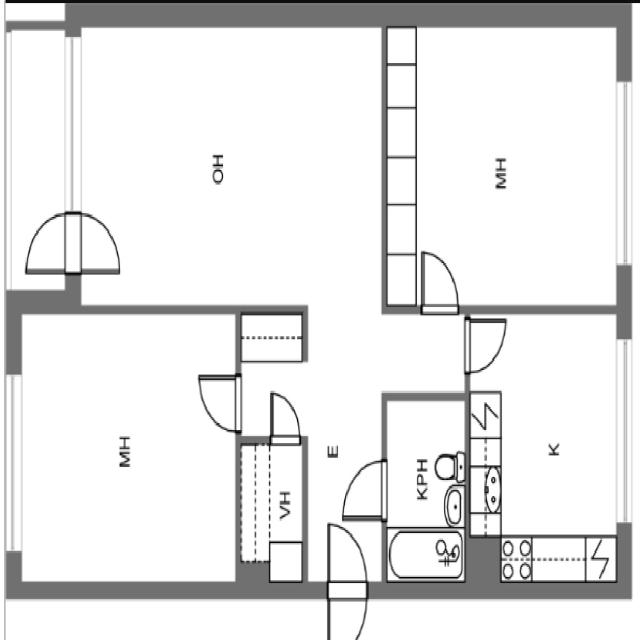door: (320, 516, 372, 616), (18, 205, 76, 277), (70, 203, 127, 275), (336, 451, 393, 522), (415, 245, 466, 318), (460, 308, 512, 377), (194, 368, 244, 432), (264, 385, 305, 446)
window: (52, 27, 96, 221), (607, 78, 640, 272), (610, 333, 640, 528), (0, 366, 28, 562)
zone: (98, 17, 369, 314), (383, 18, 623, 306), (14, 305, 240, 590), (467, 306, 625, 576), (384, 392, 468, 586), (238, 437, 303, 571), (237, 310, 307, 364)
